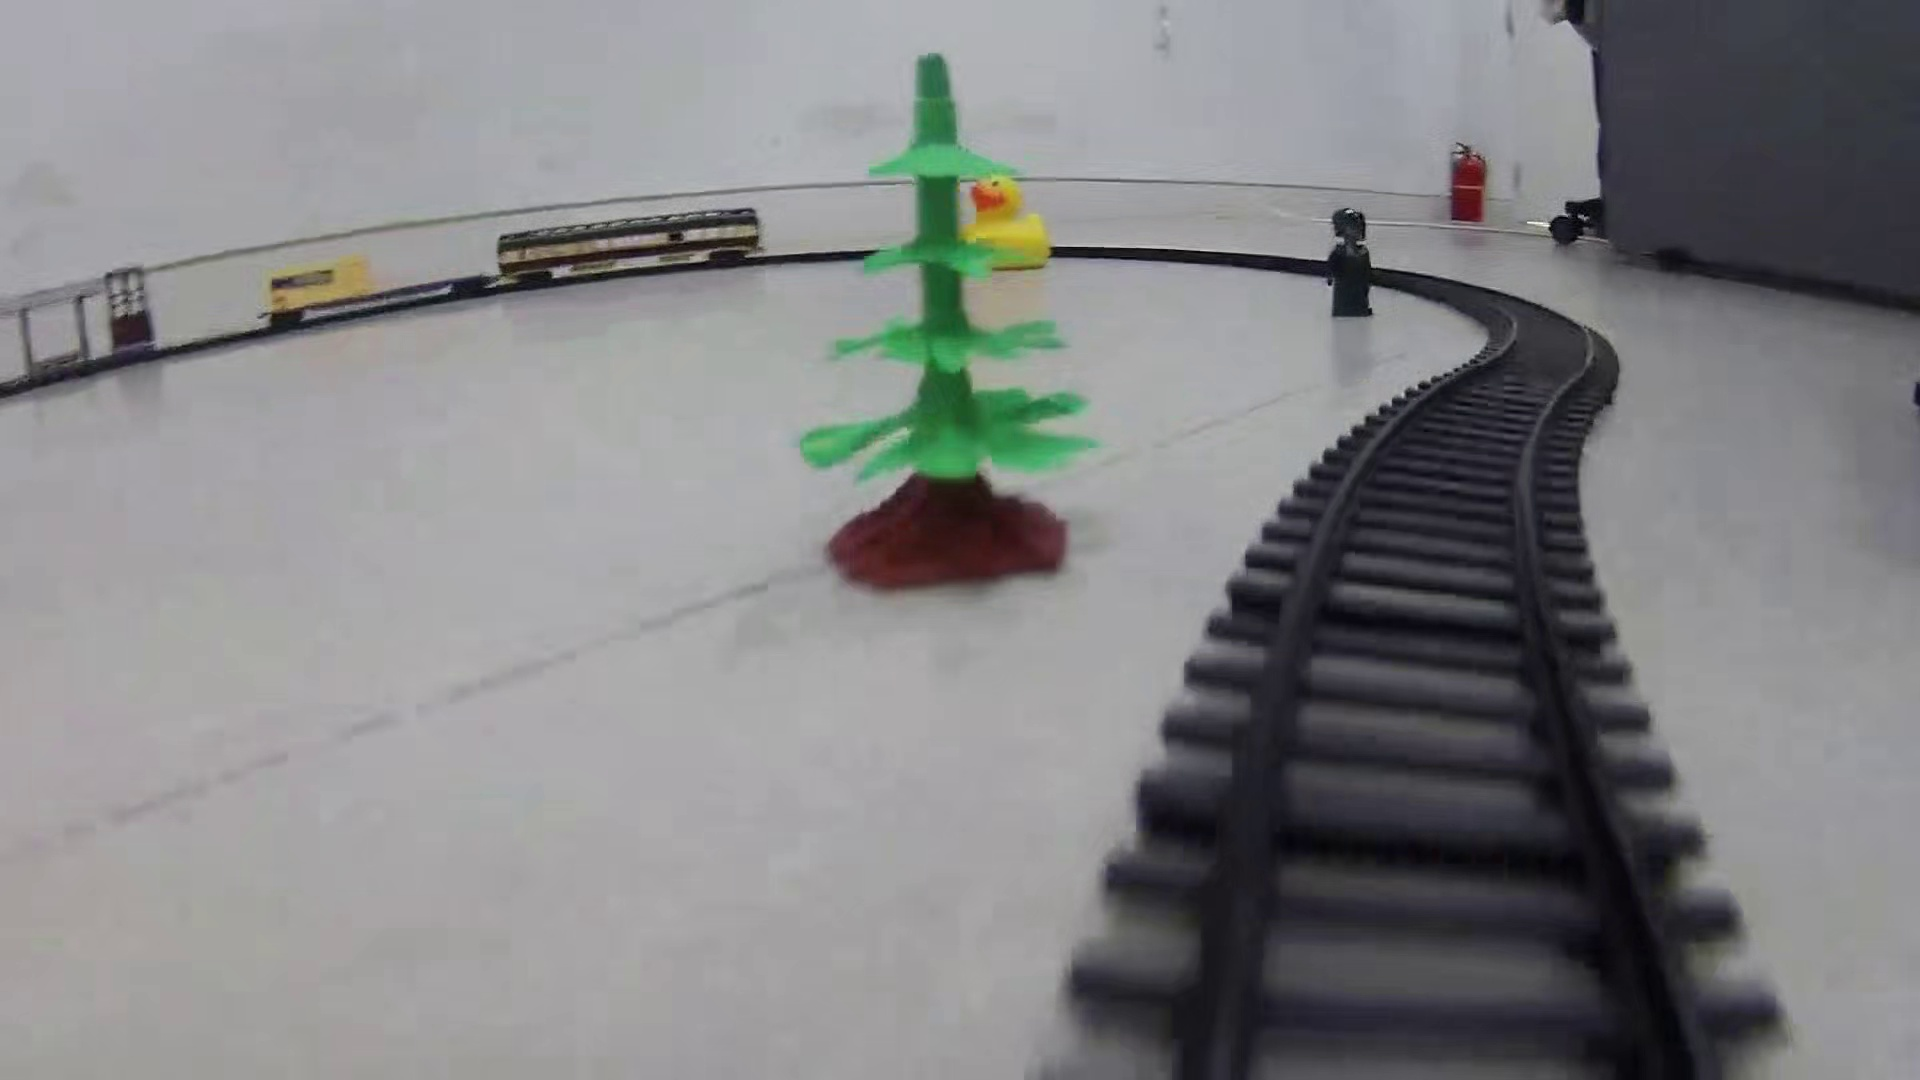people: (1321, 206, 1379, 324)
tree: (792, 50, 1099, 598)
